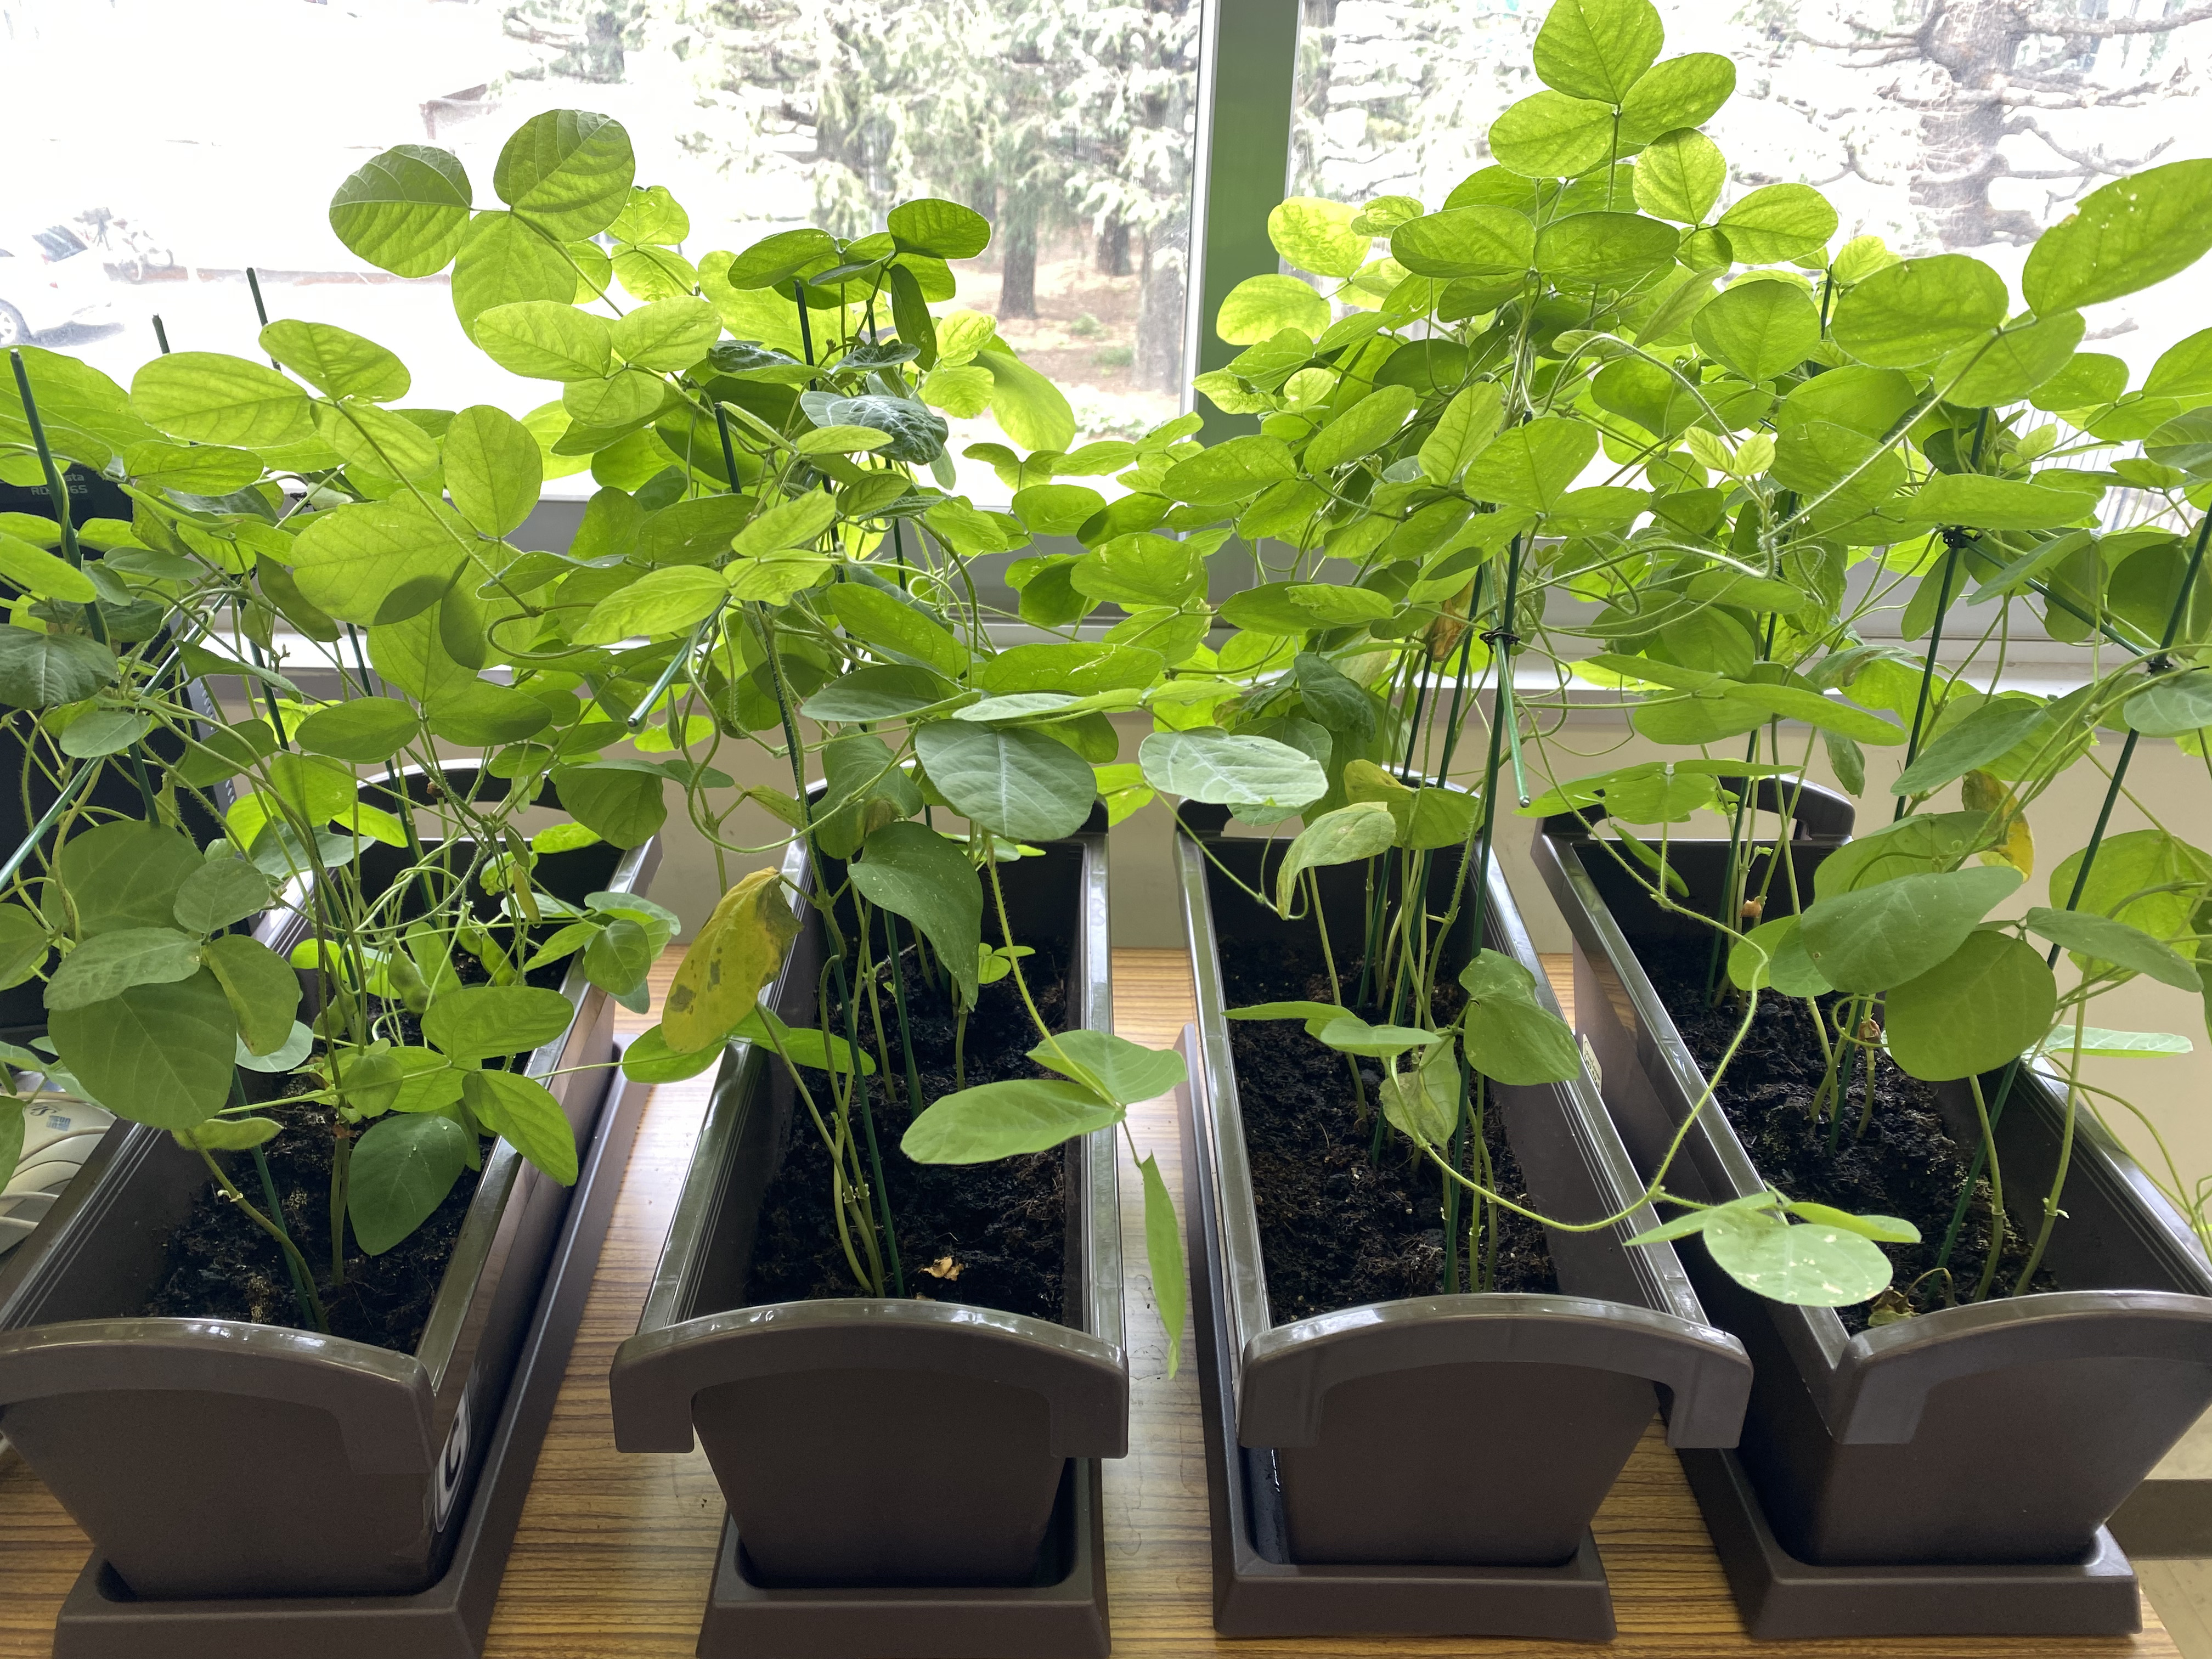healthy: (37, 941, 244, 1126), (1885, 927, 2062, 1086), (916, 704, 1101, 850), (280, 498, 465, 617), (40, 814, 209, 941), (132, 349, 326, 457), (1832, 249, 2005, 361), (1143, 720, 1329, 821), (326, 145, 465, 279), (495, 110, 636, 242), (909, 1079, 1111, 1166), (2029, 903, 2205, 1002), (453, 206, 575, 347), (442, 401, 545, 538), (254, 314, 413, 403), (1534, 0, 1663, 106), (1689, 279, 1820, 382), (1538, 204, 1683, 296), (1454, 416, 1595, 511), (472, 293, 613, 385), (1768, 416, 1898, 516), (44, 932, 206, 1009), (317, 394, 439, 495), (1395, 209, 1540, 291), (805, 385, 949, 467), (449, 538, 545, 660), (573, 565, 730, 638), (1484, 85, 1615, 167), (1712, 181, 1836, 265), (294, 694, 420, 769), (1296, 394, 1395, 483), (1656, 596, 1752, 683), (735, 491, 843, 566), (617, 291, 711, 371), (730, 218, 836, 288), (887, 190, 988, 258)
leaf scorch(50%): (2026, 155, 2212, 315), (1799, 864, 2026, 981), (1698, 1199, 1904, 1319), (1449, 939, 1578, 1091), (343, 1112, 469, 1258), (1547, 756, 1785, 828), (1271, 800, 1395, 917), (1071, 525, 1207, 610), (1822, 631, 1951, 718), (1345, 760, 1477, 840), (977, 640, 1155, 695), (1165, 439, 1291, 518), (1212, 268, 1329, 345), (1270, 192, 1360, 279), (1383, 1072, 1465, 1157), (1186, 371, 1271, 418)
leaf scorch(90%): (660, 864, 798, 1053), (1959, 772, 2040, 885), (1426, 603, 1468, 666), (1737, 890, 1766, 920)
